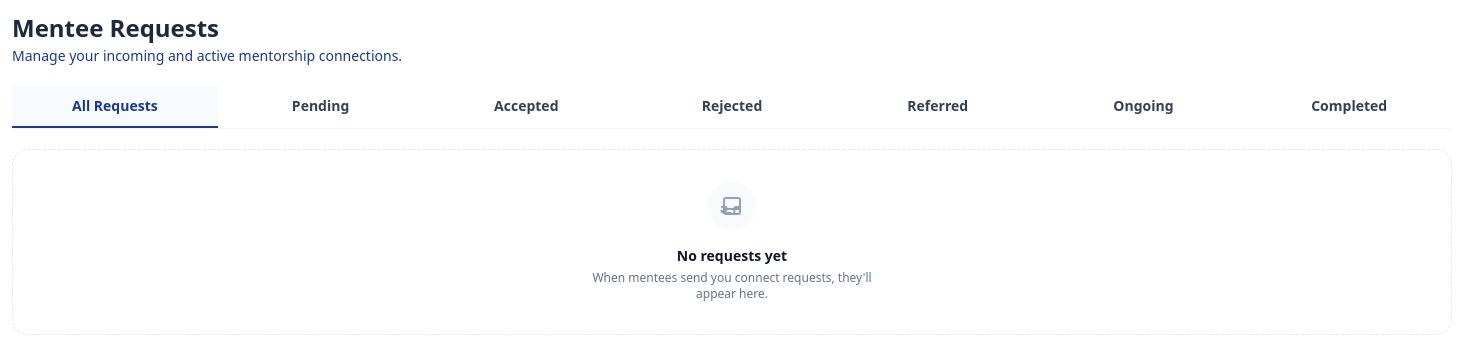
Scenario: RequestsTab Component › covers generic getEmptyStateMessage fallback for tabs without custom message
This screenshot has width=1464, height=352.
# Click "Accepted" tab (no custom message defined, so falls through to default)
Click the button "Accepted": (526, 107) [423,86,629,128]
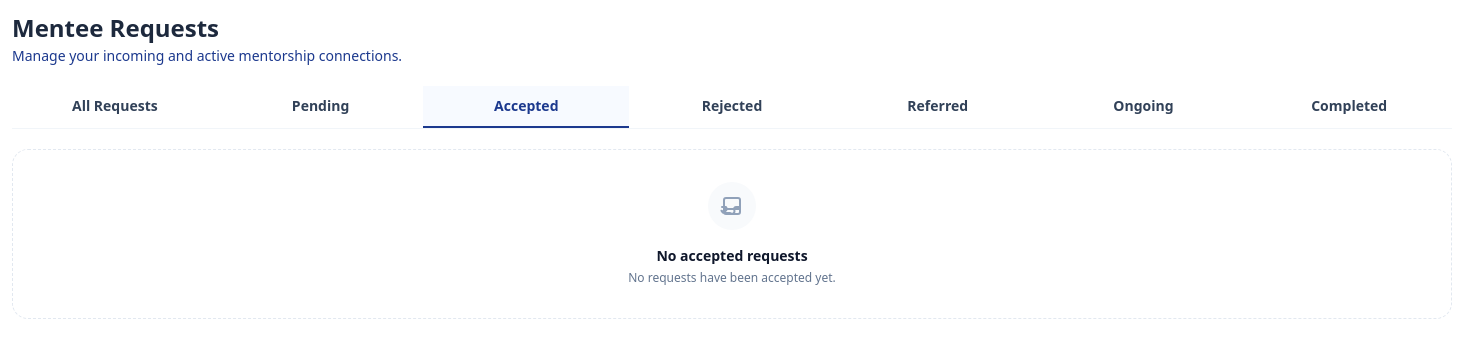
Check: the heading "No accepted requests" is shown, box [656,246,808,266]
Check: the text "No requests have been accepted yet." is shown, box [628,270,836,286]
